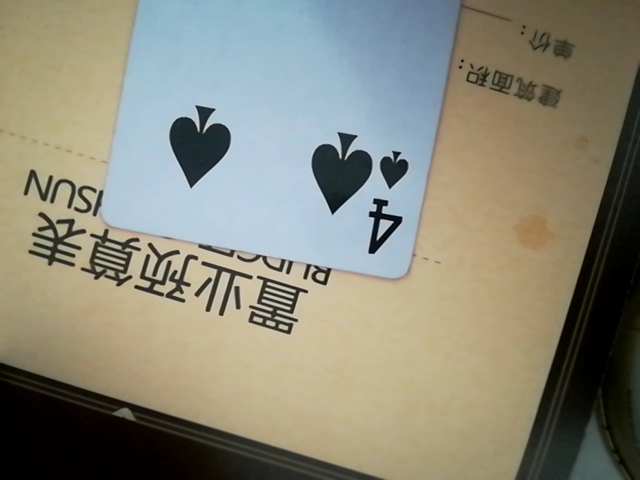ht 4: (101, 0, 491, 287)
